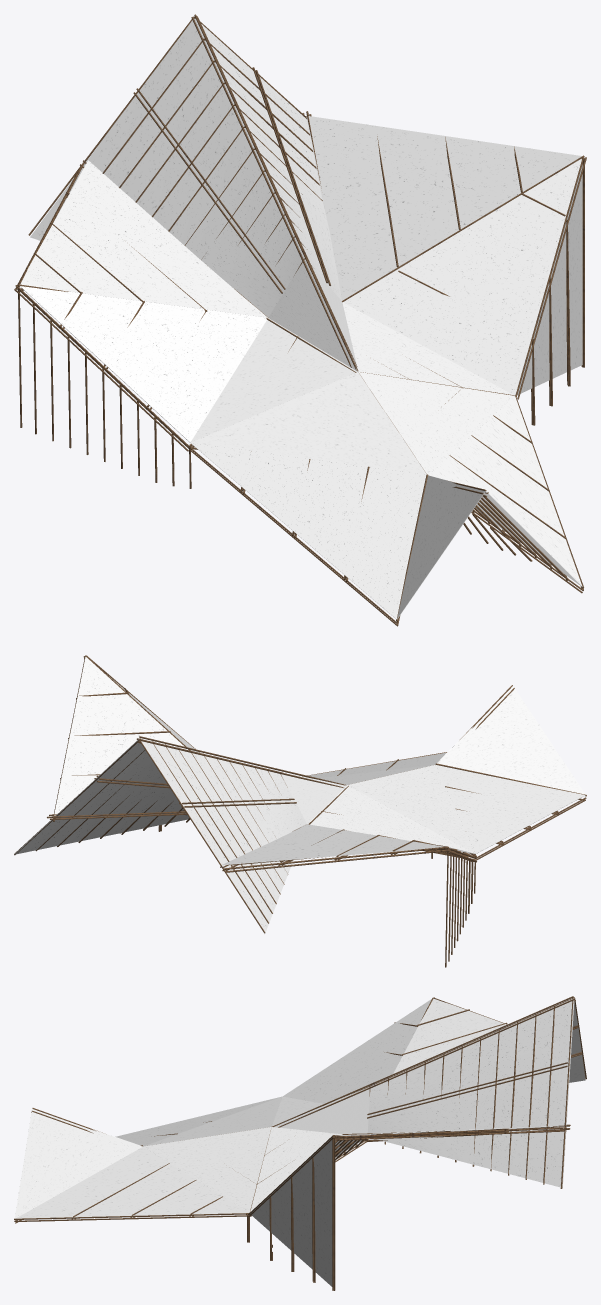
File: teahouse2.glb
3 renders of one model, top to bottom at view 1: azimuth 30°, elevation 25°; view 2: azimuth 150°, elevation 25°; view 3: azimuth 270°, elevation 25°, orthographic. The views are drawn at different scales.
Parts seen in each view (by area): view 1: structure; view 2: structure; view 3: structure.
Part boxes in pixels (bbox=[...]): structure: bbox=[14, 14, 586, 626]; structure: bbox=[14, 655, 586, 967]; structure: bbox=[14, 996, 586, 1290].
Size of the model in its own units: 28.68 by 16.56 by 38.25.
Materials: 2 (2 with a texture image).
